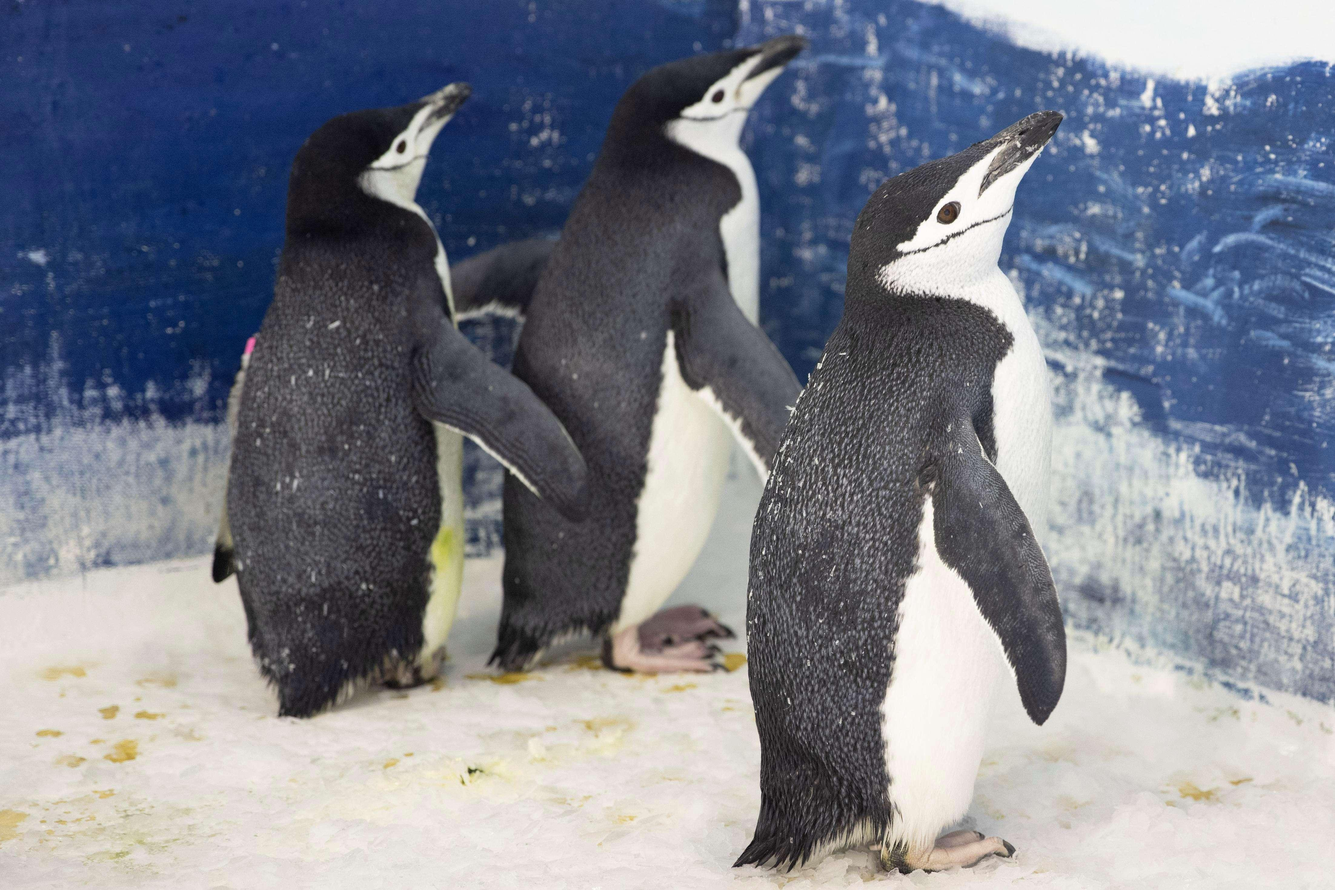Penguin: (732, 110, 1067, 874), (212, 82, 589, 717), (450, 35, 805, 674)
